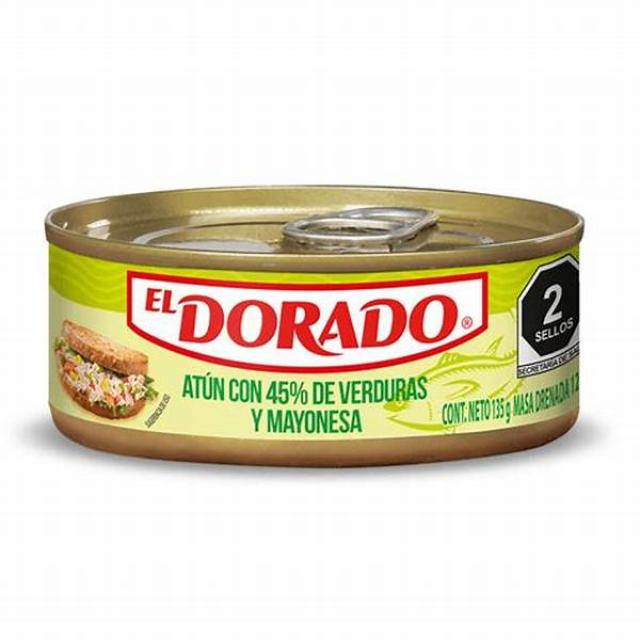Lata: (37, 186, 588, 473)
